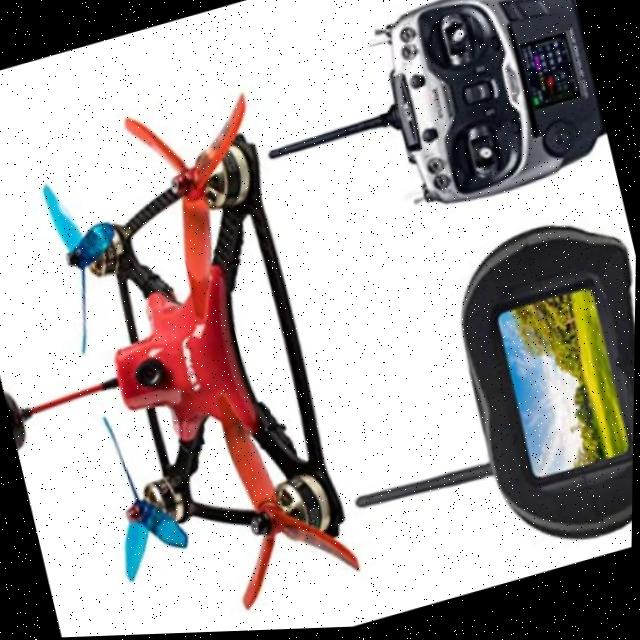drones: (0, 76, 392, 640)
